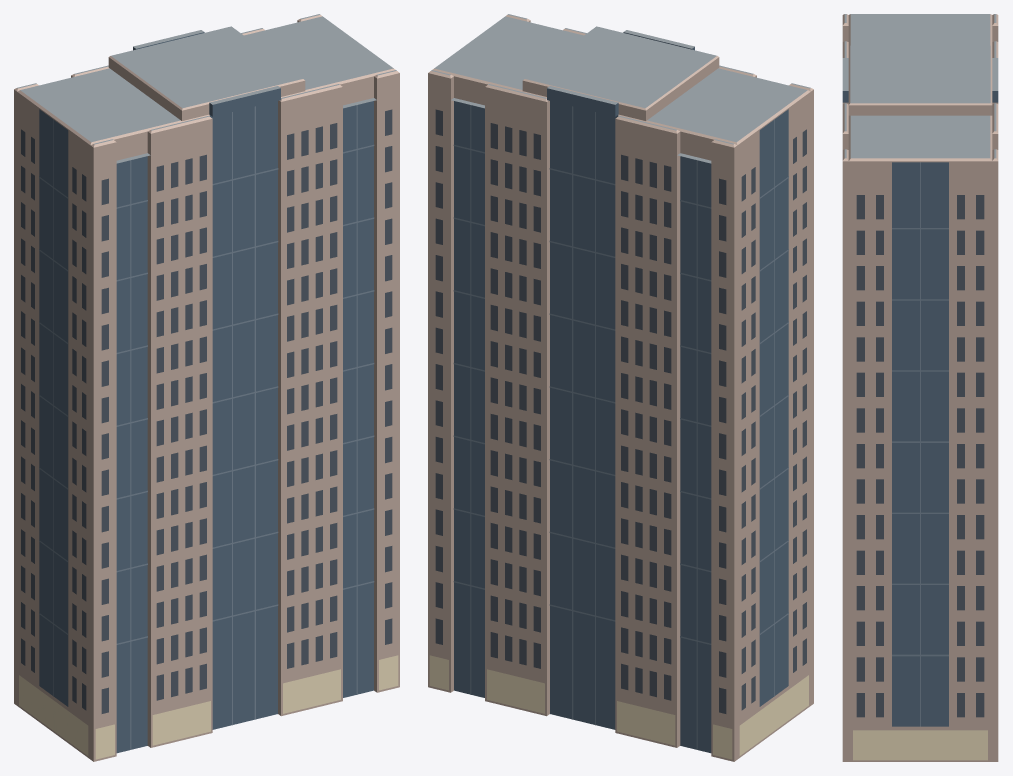
The model's file is sd-symphony-towers.glb.
3 views of the same model, side by side, from view 1: azimuth 30°, elevation 25°; view 2: azimuth 150°, elevation 25°; view 3: azimuth 270°, elevation 25° (orthographic). The views are drawn at different scales.
Parts seen in each view (by area): view 1: Symphony Towers; view 2: Symphony Towers; view 3: Symphony Towers.
Part boxes in pixels (<box>): Symphony Towers: <box>14,14,399,761</box>; Symphony Towers: <box>428,14,813,761</box>; Symphony Towers: <box>842,14,998,761</box>.
Bounding box in the file's own units: 67.18 × 131 × 30.28.
